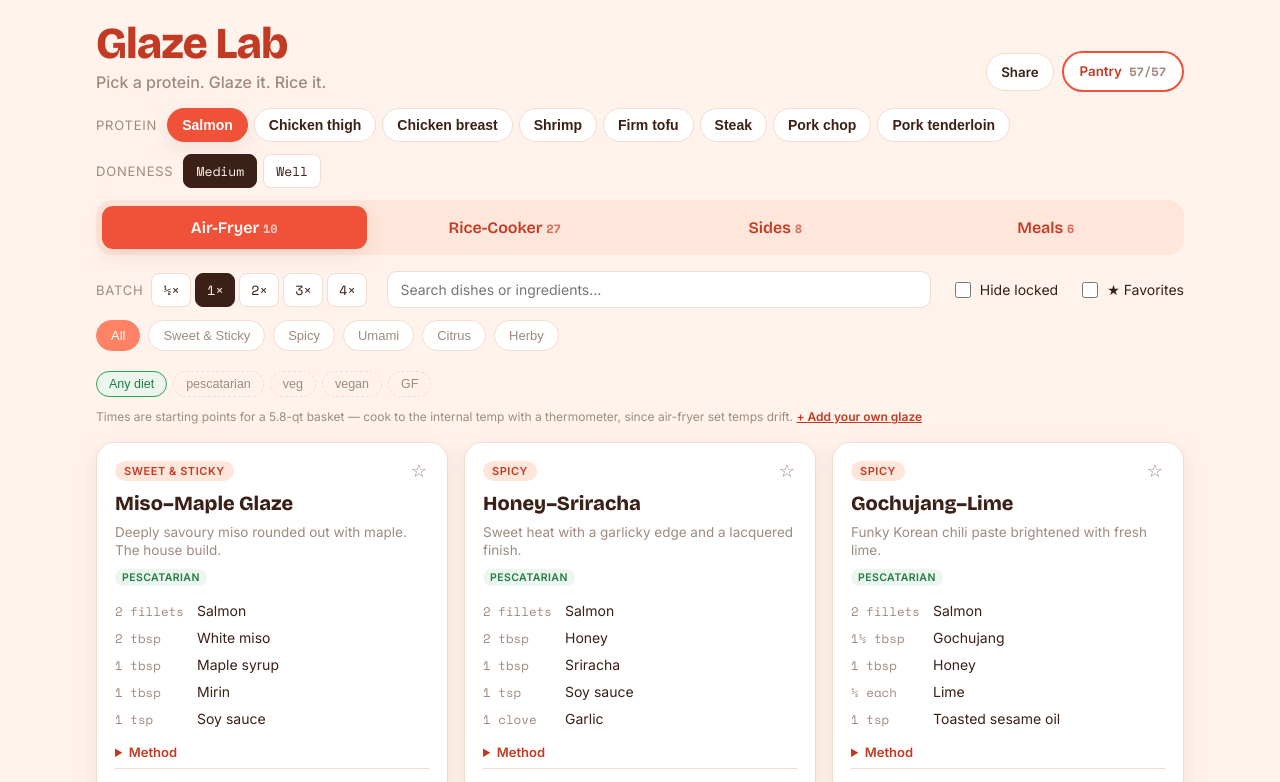
Glaze Lab app › adds a custom glaze that shows with a custom tag
The width and height of the screenshot is (1280, 782).
Click the button "+ Add your own glaze" at (859,416), box [796, 409, 922, 424]
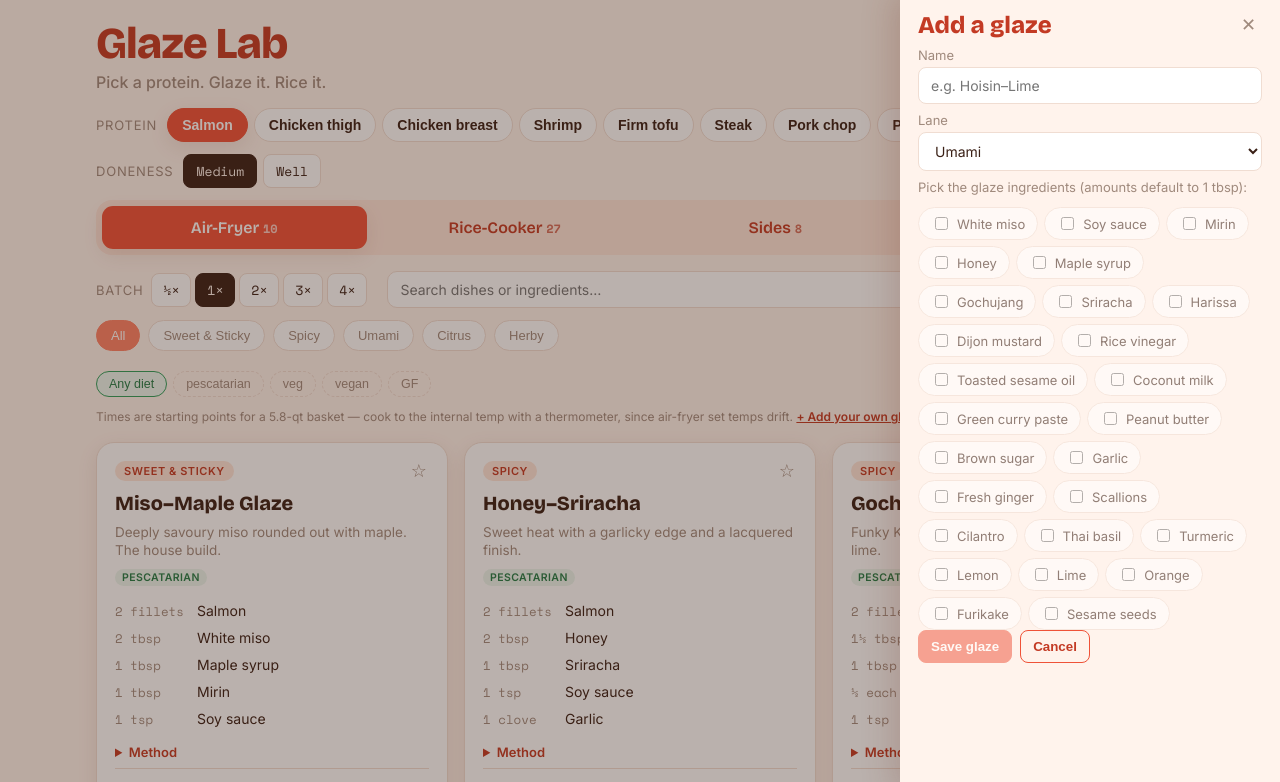
Type "My Test Glaze" into the field with placeholder "e.g. Hoisin–Lime" at (1090,86), box [918, 67, 1262, 104]
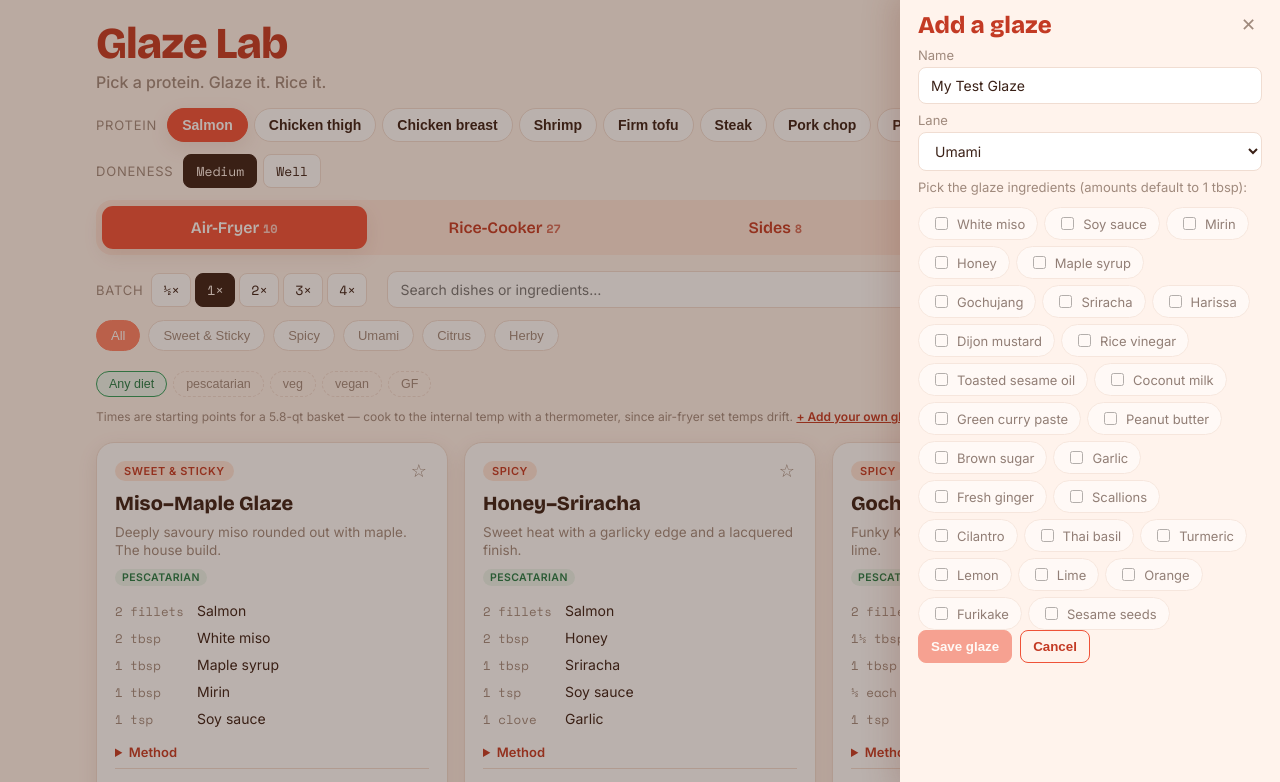
Click the checkbox labelled "Honey" at (942,262), box [935, 256, 948, 269]
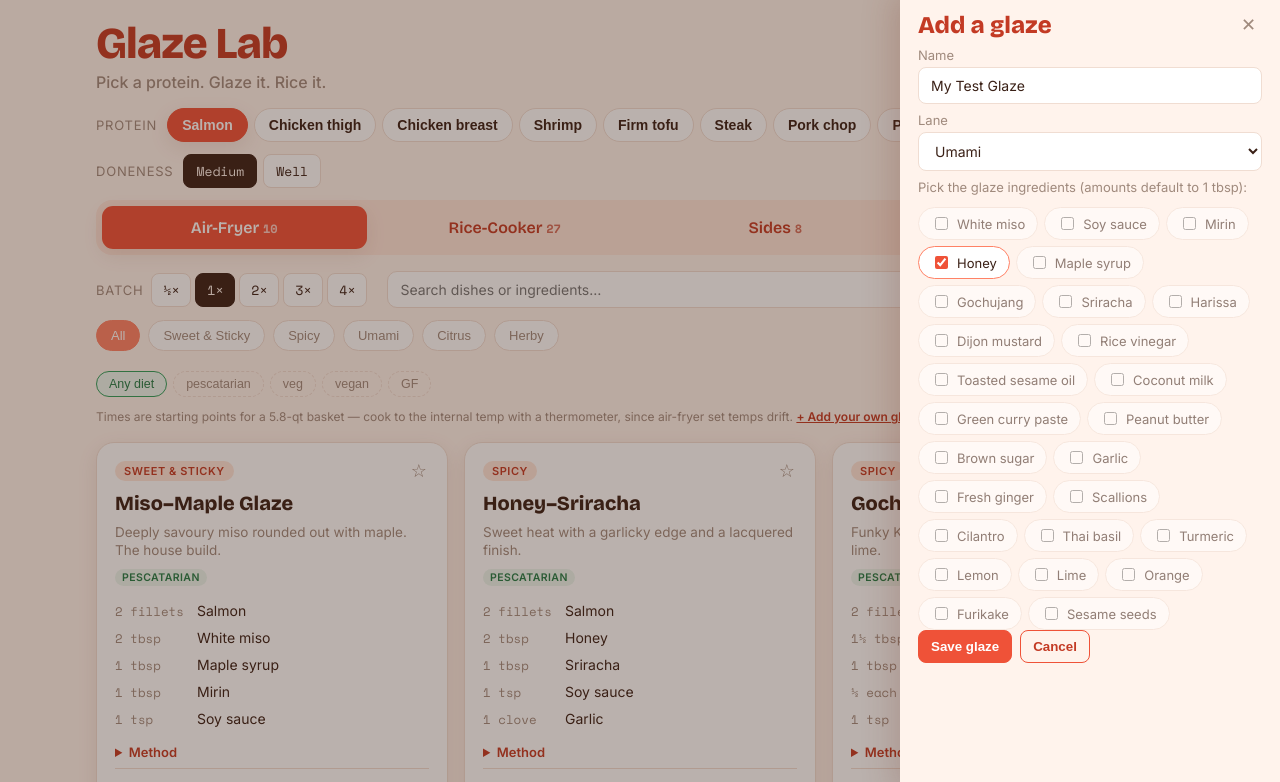
Click the button "Save glaze" at (965,646), box [918, 630, 1012, 663]
(page scrolled)
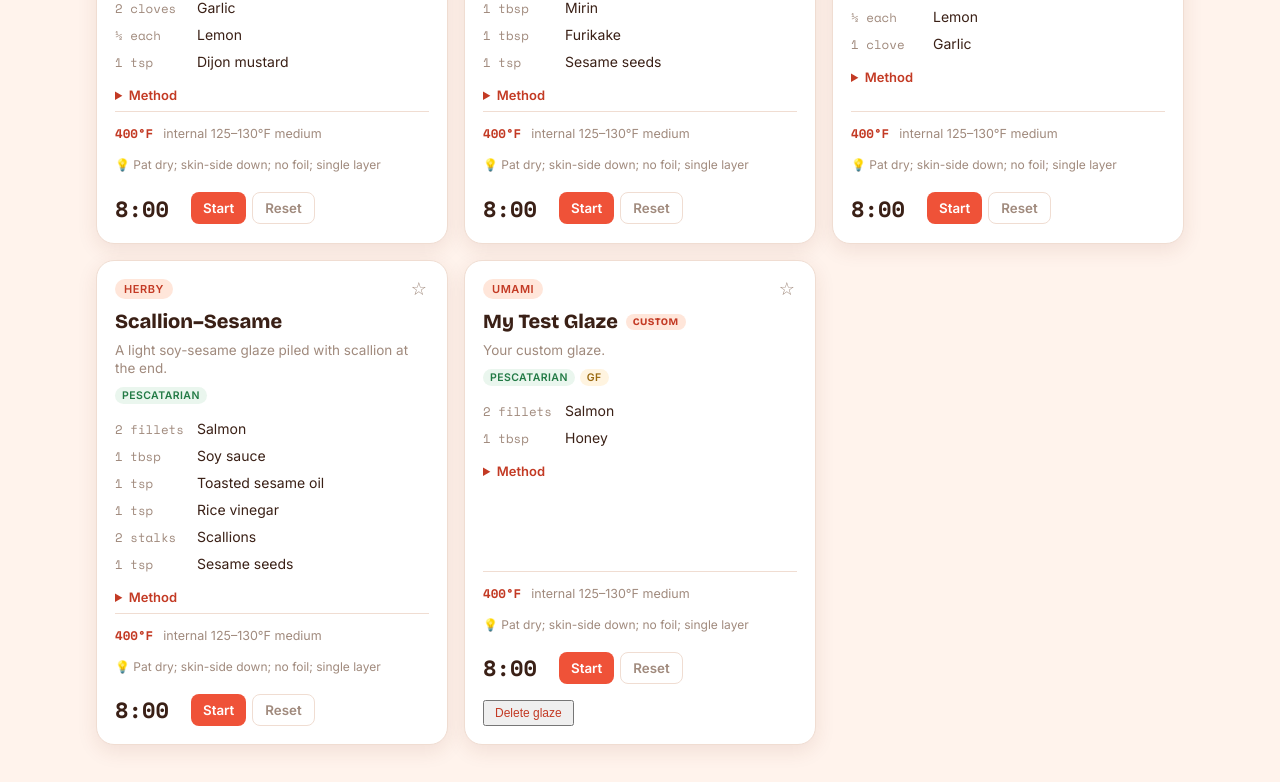
Now the text "My Test Glaze" shows "custom", box [633, 316, 678, 328]
